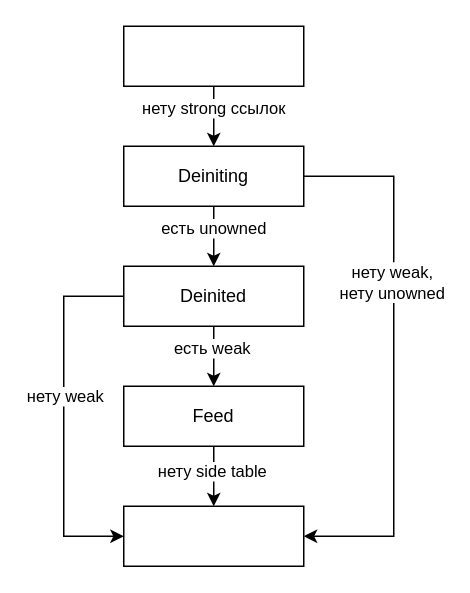
Image size: 470x593. Some labels were removed from this diagram. The centre of each missing label's shape, as x and y in pixels:
"Dead" belongs at point 213,535.
"Life" belongs at point 213,55.
